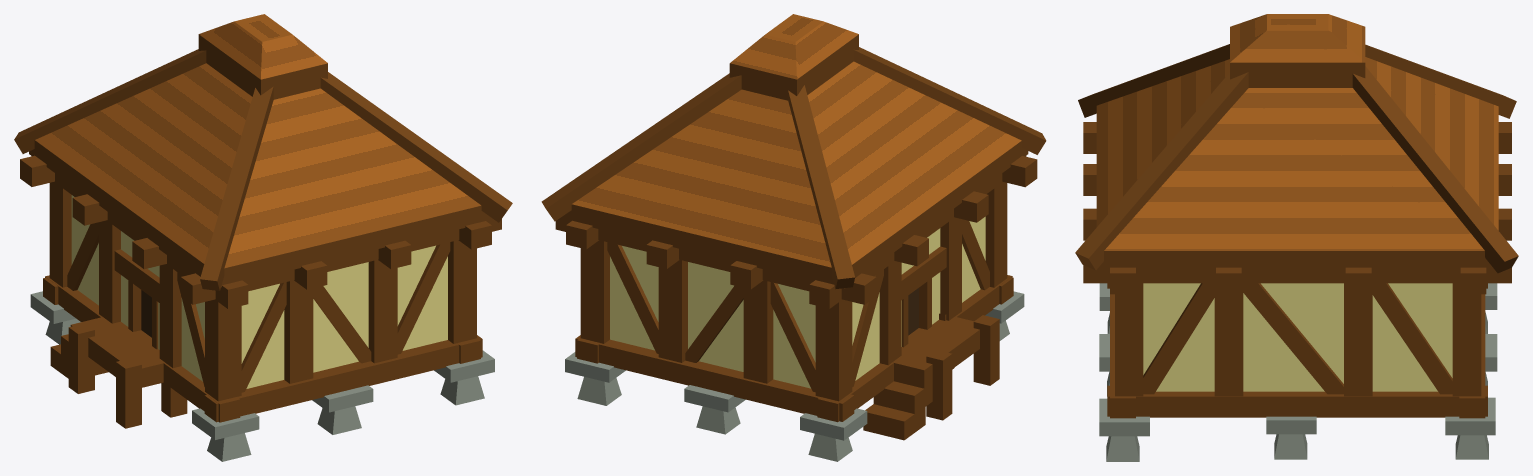
The model's file is Granary.fbx.
3 renders of one model, left to right at view 1: azimuth 30°, elevation 25°; view 2: azimuth 150°, elevation 25°; view 3: azimuth 270°, elevation 25°, orthographic. The views are drawn at different scales.
Visible parts, largest first — view 1: polySurface65; view 2: polySurface65; view 3: polySurface65.
Part boxes in pixels (left/top/right/bottom): polySurface65: left=14, top=14, right=512, bottom=461; polySurface65: left=541, top=14, right=1046, bottom=461; polySurface65: left=1075, top=14, right=1518, bottom=461.
Bounding box in the file's own units: 186 × 183 × 199.
1 material, 1 textured.
